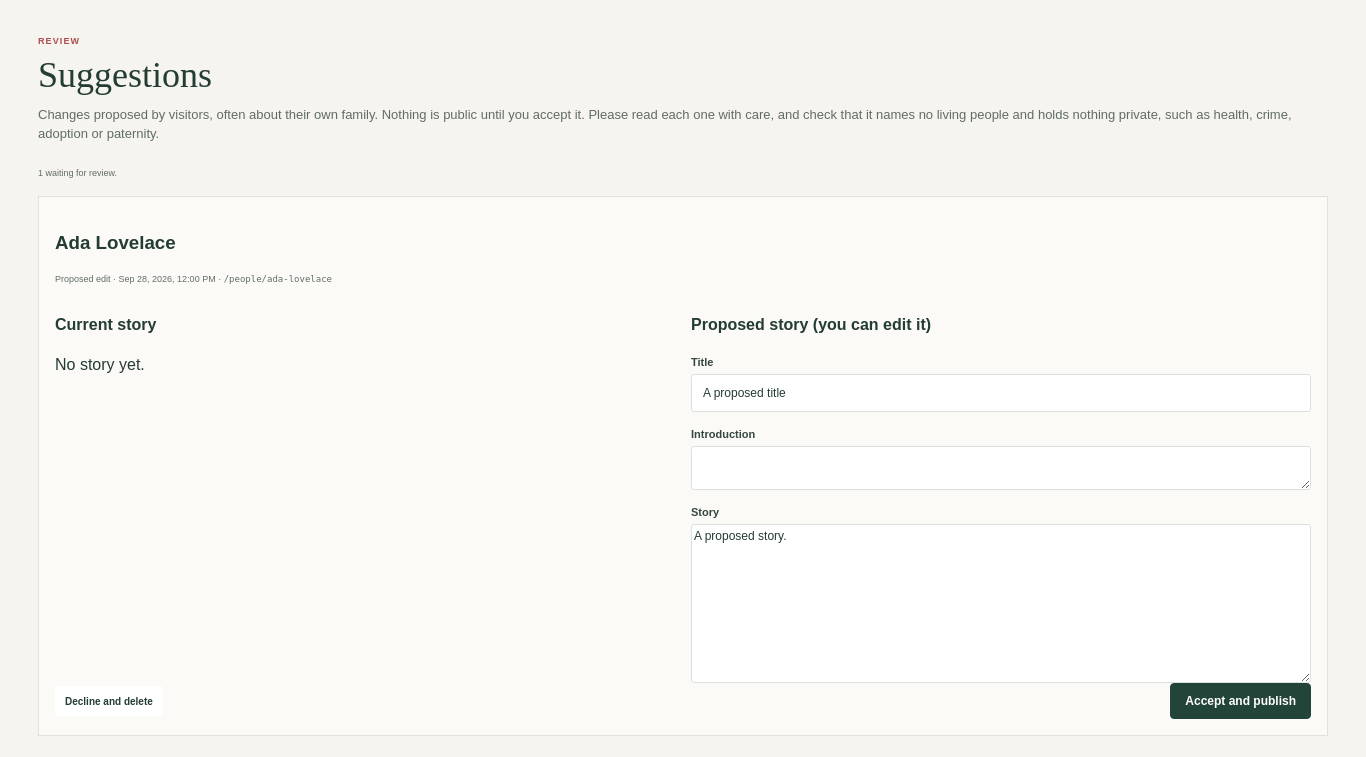
Test: the review queue › rejects a suggestion, which leaves the desk's stories alone
What coordinates should you click on to do the following:
click the button "Decline and delete"
I would click on:
 (109, 701)
Its box is [55,686,163,716].
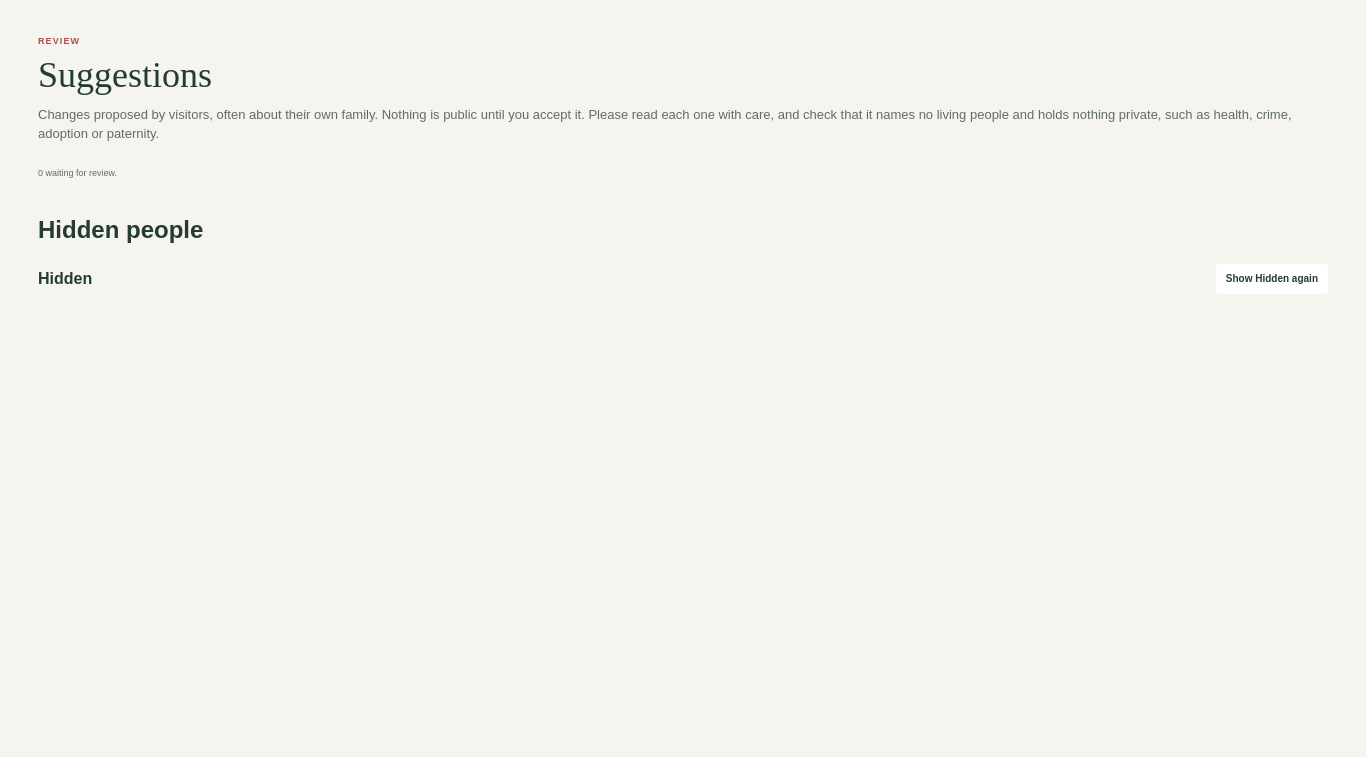
Expected: the text "0 waiting for review." is shown, [38,168,117,178]
